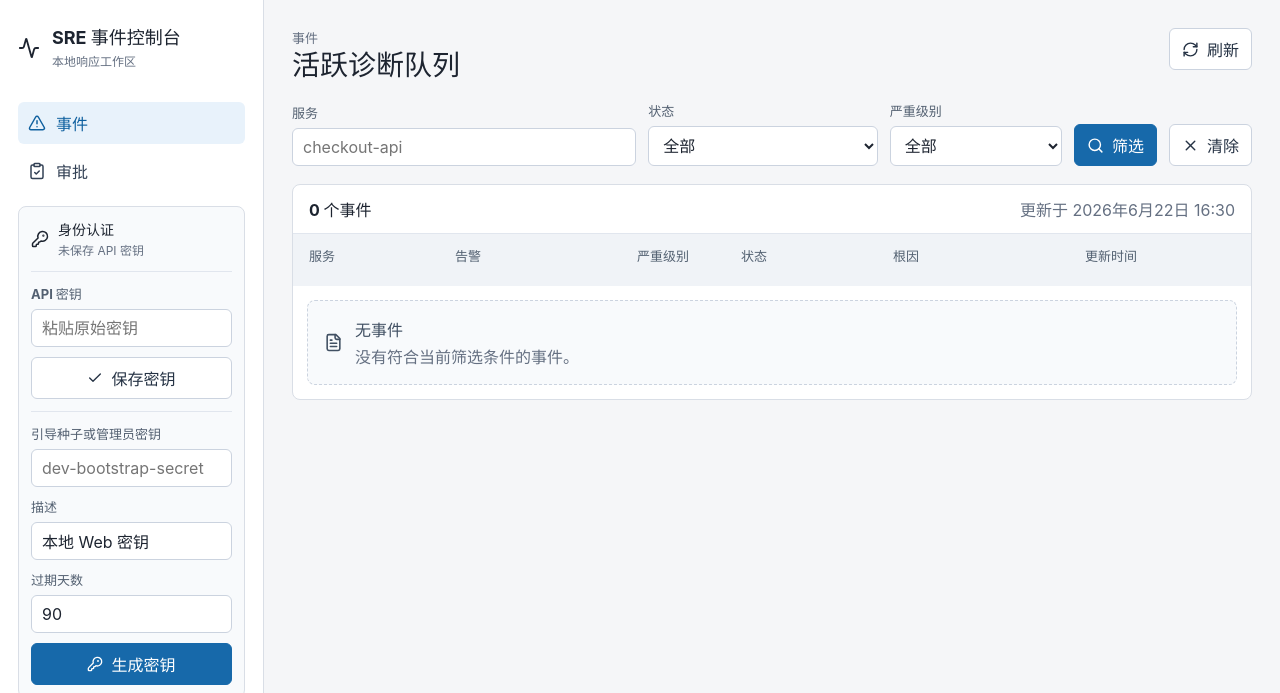
generates and saves an API key from the authentication panel
Expected: the text "无事件" is shown, [355,320,403,340]
In the password field labelled "引导种子或管理员密钥": (132, 468) [31,449,232,487], type "bootstrap-secret"
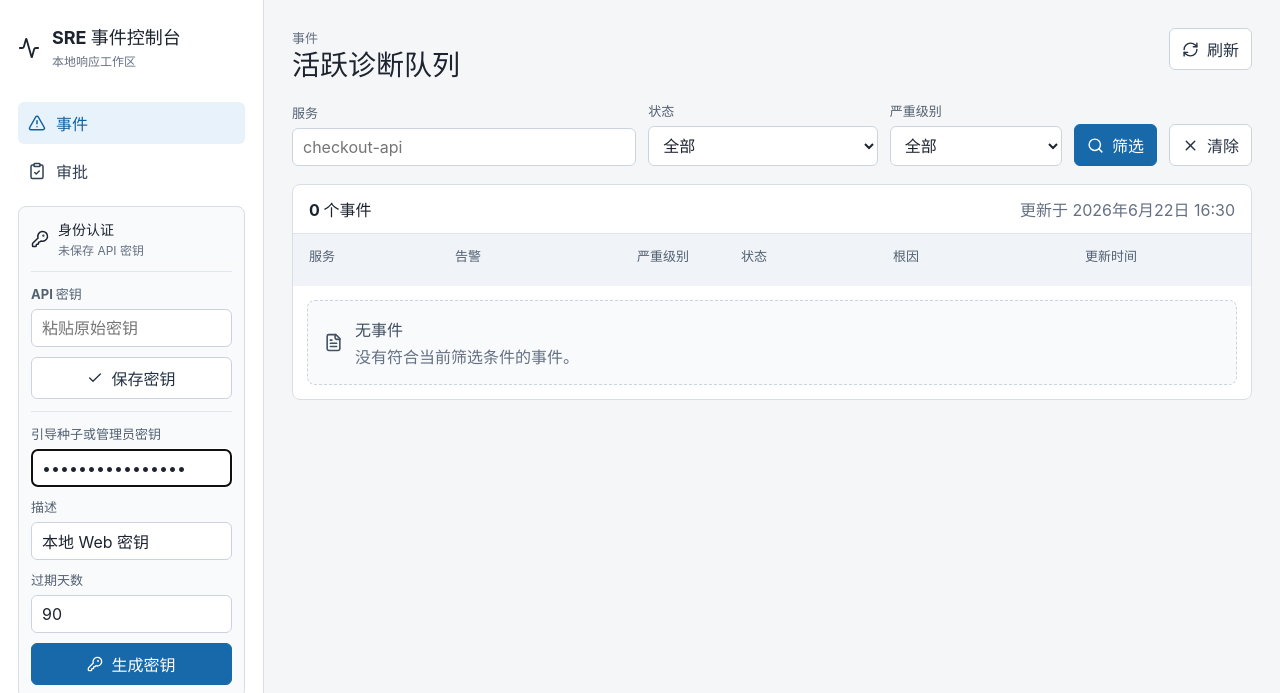
Click the button "生成密钥": (132, 664) [31,643,232,685]
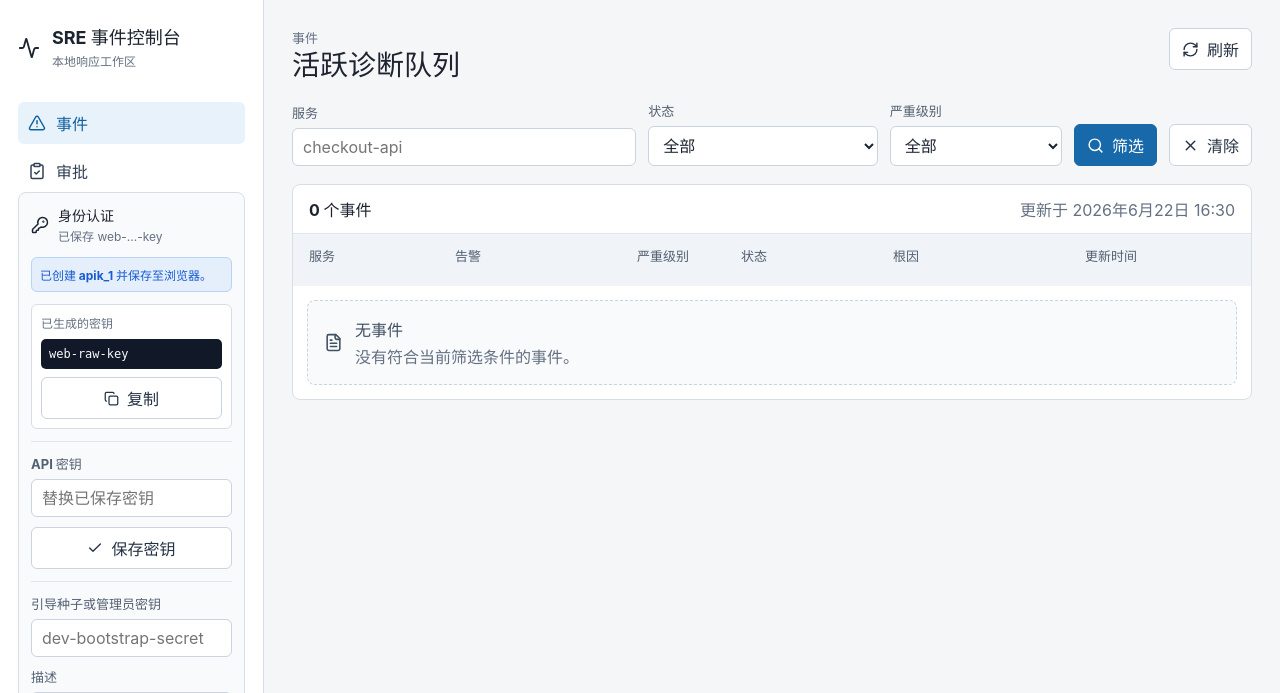
Result: the text "已创建 apik_1 并保存至浏览器。" is shown at [31,257,232,292]
Result: the text "web-raw-key" is shown at [41,339,222,369]
